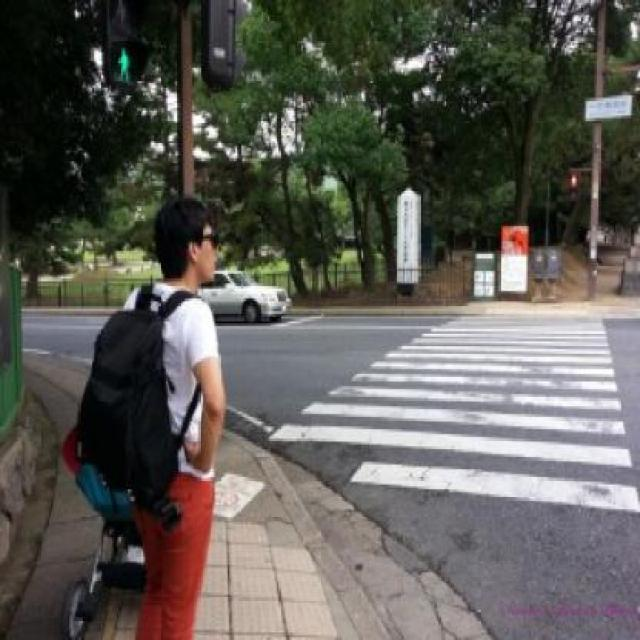obstacle: (120, 200, 226, 638)
